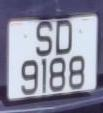1: (38, 56, 50, 98)
8: (48, 55, 69, 95), (67, 53, 87, 94)
9: (19, 58, 41, 98)
D: (54, 16, 75, 60)
S: (33, 18, 55, 60)
